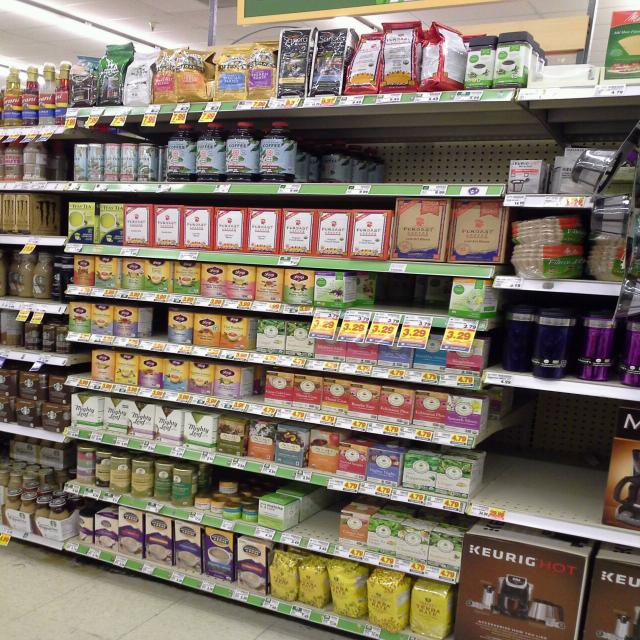empty: (472, 396, 605, 521), (368, 125, 504, 193), (541, 18, 592, 93), (290, 486, 339, 543)
